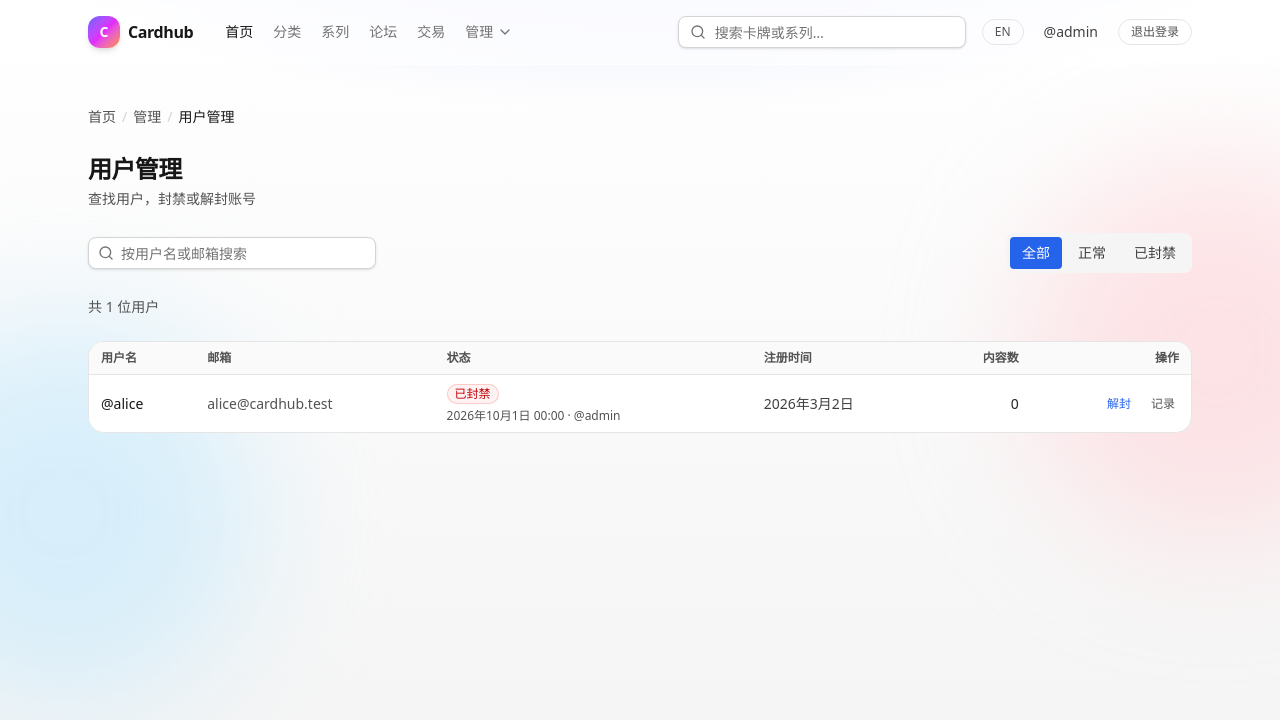
it: BanUserDialog › treats NOT_BANNED as success for unban
Click the button with aria-label "解封 @alice" at (1119, 404), box [1103,392,1135,416]
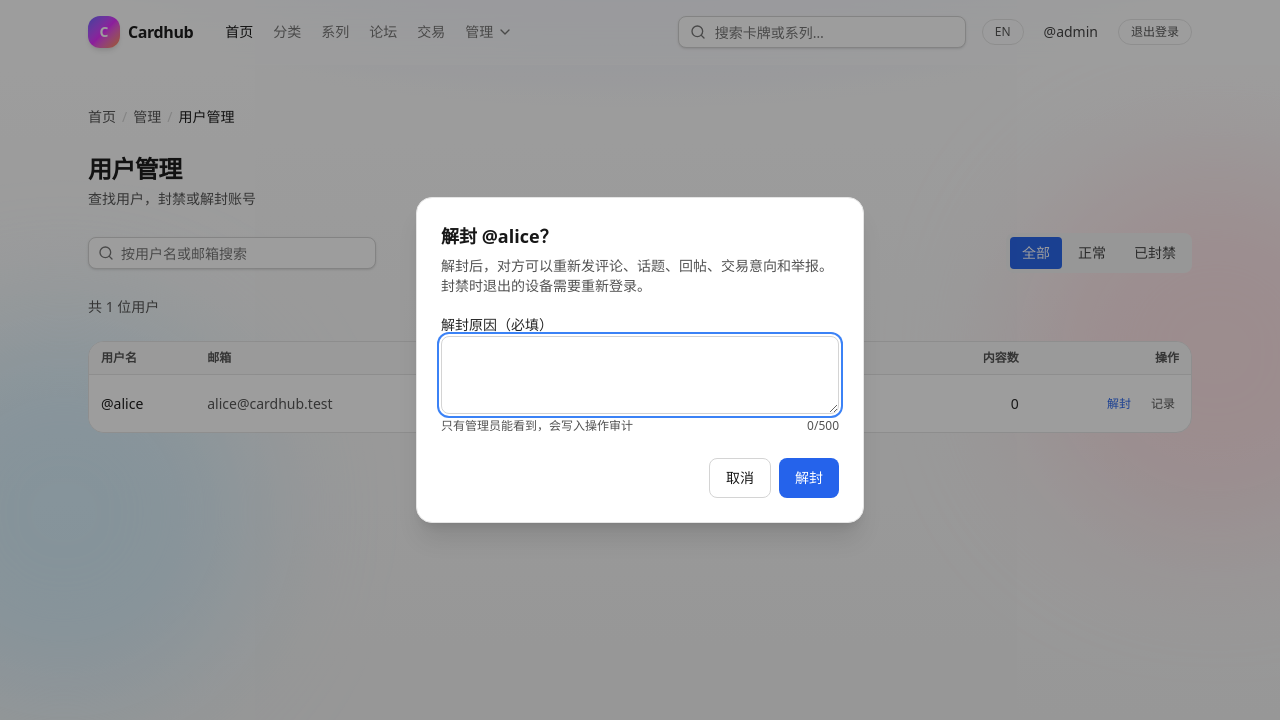
Type "恢复" into the text box at (640, 375), box [441,336,839,414]
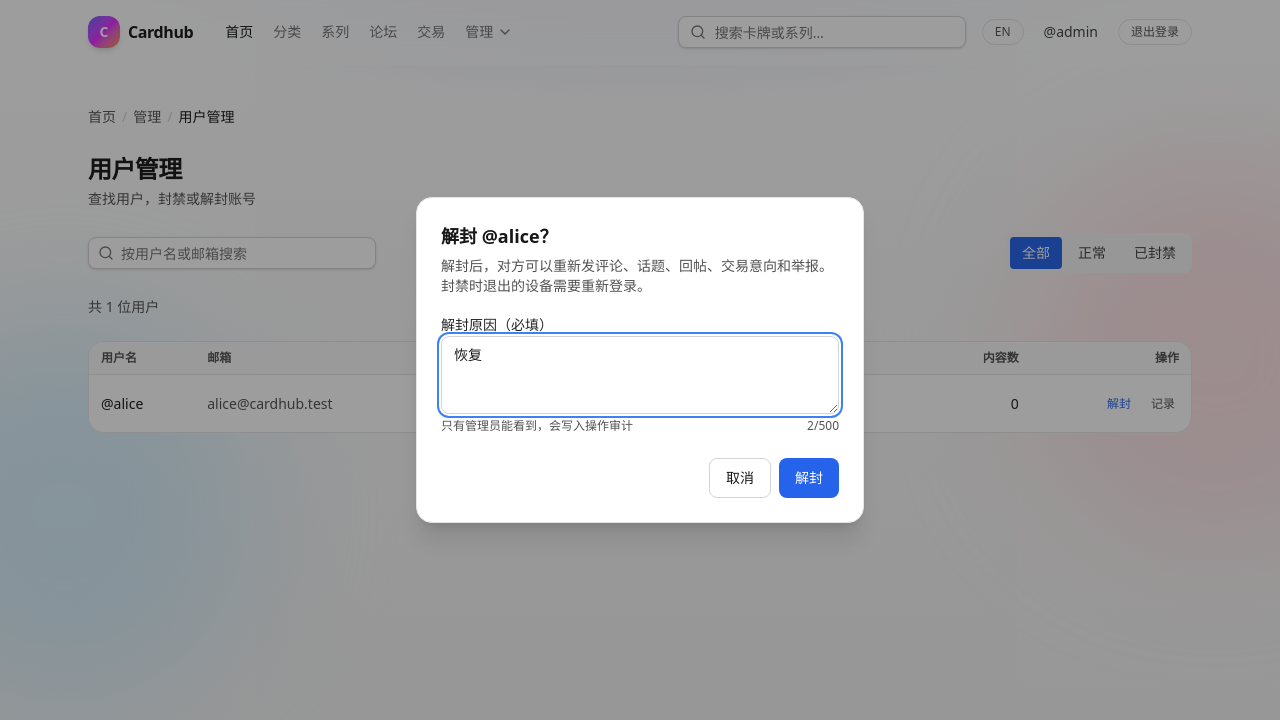
Click the button "解封" at (809, 478), box [779,458,839,498]
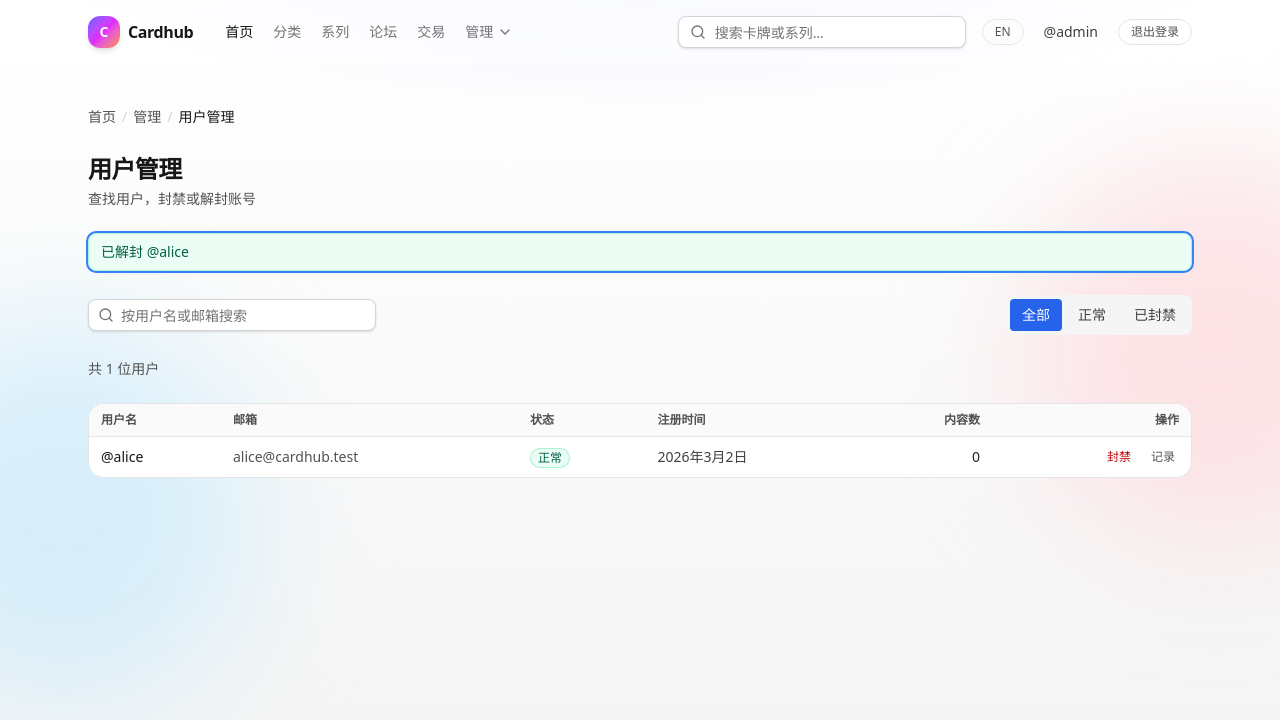
Expected: the dialog is gone
Expected: the button with aria-label "封禁 @alice" is shown, [1103,445,1135,469]
